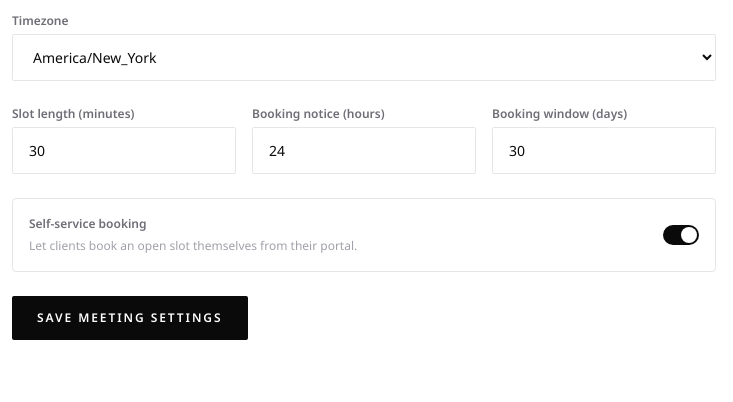
Test case: MeetingSettingsForm › surfaces a server error
Step 1. Click the button "Save meeting settings" → (130, 318), box [12,296,248,340]
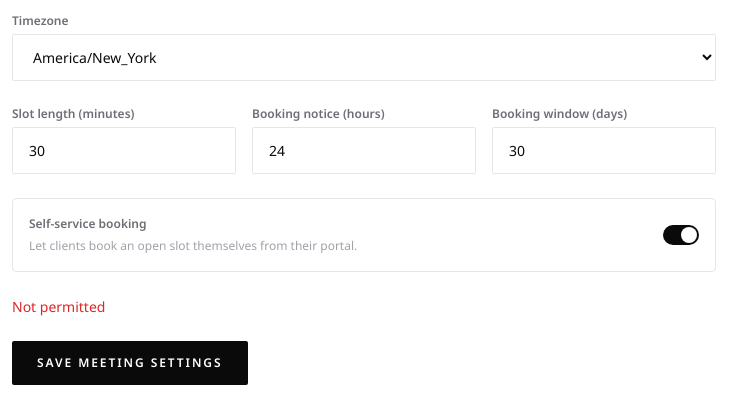
Expected: the text "Not permitted" is shown, [12,297,105,316]
